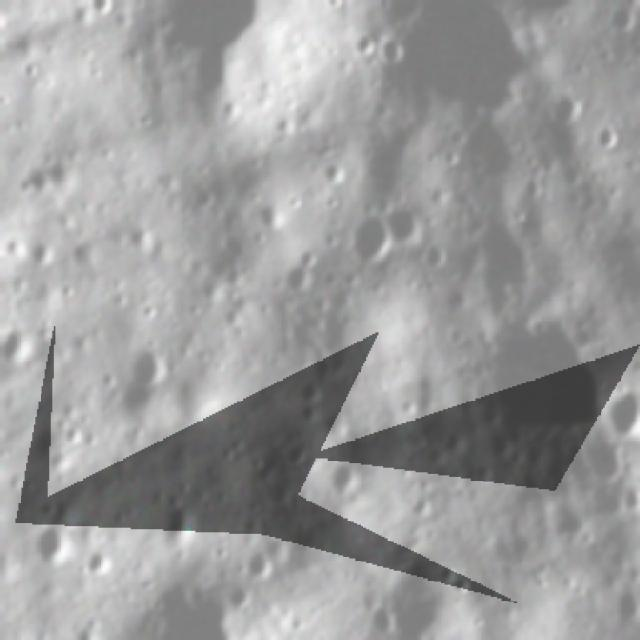crater: (484, 311, 605, 437), (379, 559, 463, 636), (343, 206, 391, 268), (23, 523, 71, 575), (582, 436, 626, 484), (158, 498, 200, 548), (384, 194, 424, 246), (598, 385, 637, 438), (548, 501, 594, 545), (128, 336, 170, 384), (541, 91, 588, 132), (2, 321, 40, 370), (327, 452, 364, 502), (242, 542, 282, 583), (78, 546, 117, 582), (376, 28, 410, 68), (360, 602, 397, 638), (272, 264, 310, 298), (592, 118, 625, 157), (222, 581, 255, 619), (278, 430, 310, 468), (605, 0, 637, 35), (420, 239, 451, 272), (341, 34, 373, 60), (294, 373, 320, 402), (77, 2, 117, 20), (291, 398, 318, 424), (296, 245, 324, 270)
